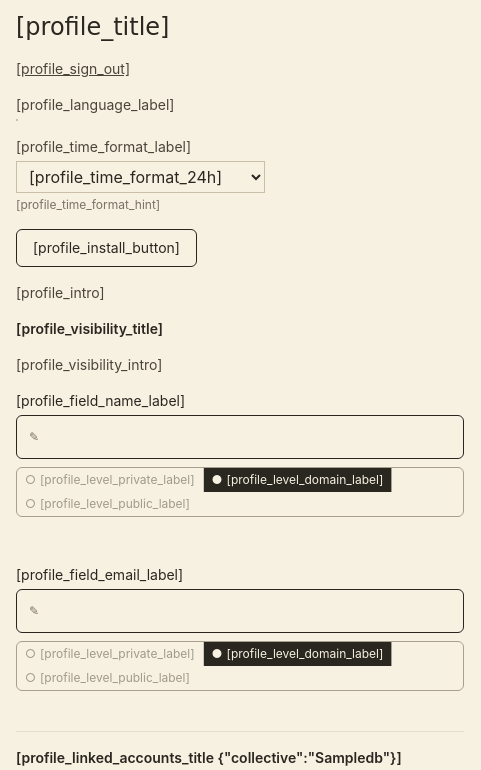
Test: /profile — install button, 'ios-hint' state (#408) › pressing the button reveals the Share-menu instruction line
Check: the dropdown with test id "profile-time-format" is shown, box [16,161,265,193]
Click the button with test id "profile-install-button".
click(106, 248)  # box [16,229,197,267]
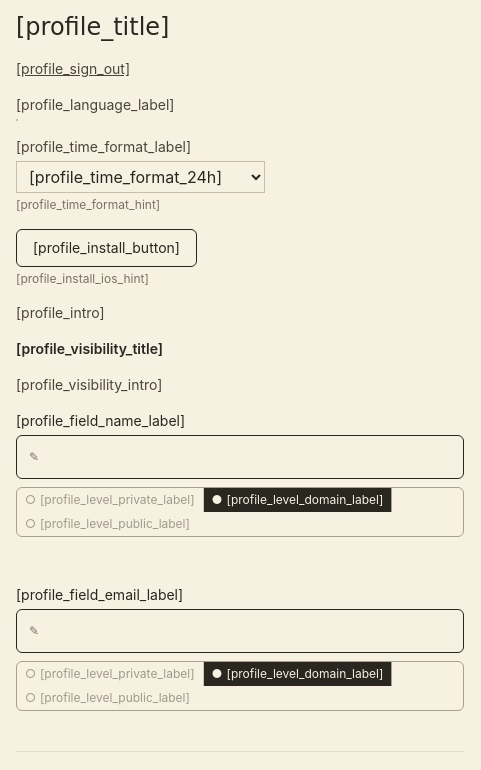
Check: the text "[profile_install_ios_hint]" is shown, box [16,271,149,287]
Check: the text with test id "profile-install-ios-hint" reads "[profile_install_ios_hint]", box [16,271,149,286]
